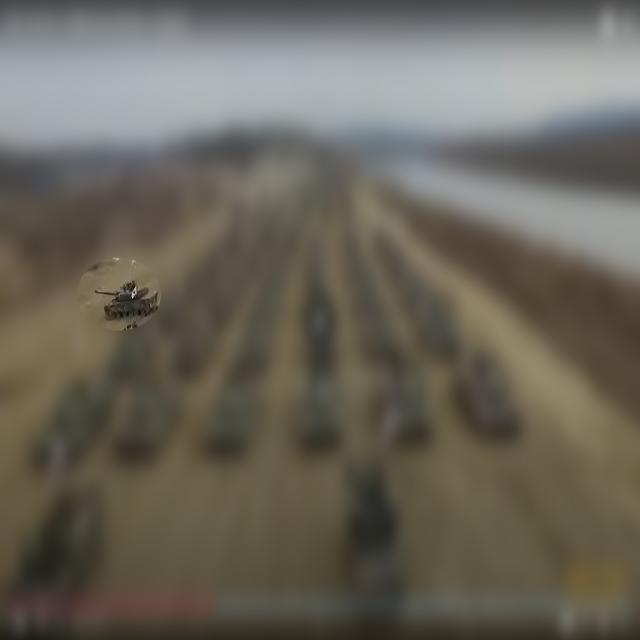tank: (94, 278, 160, 324)
